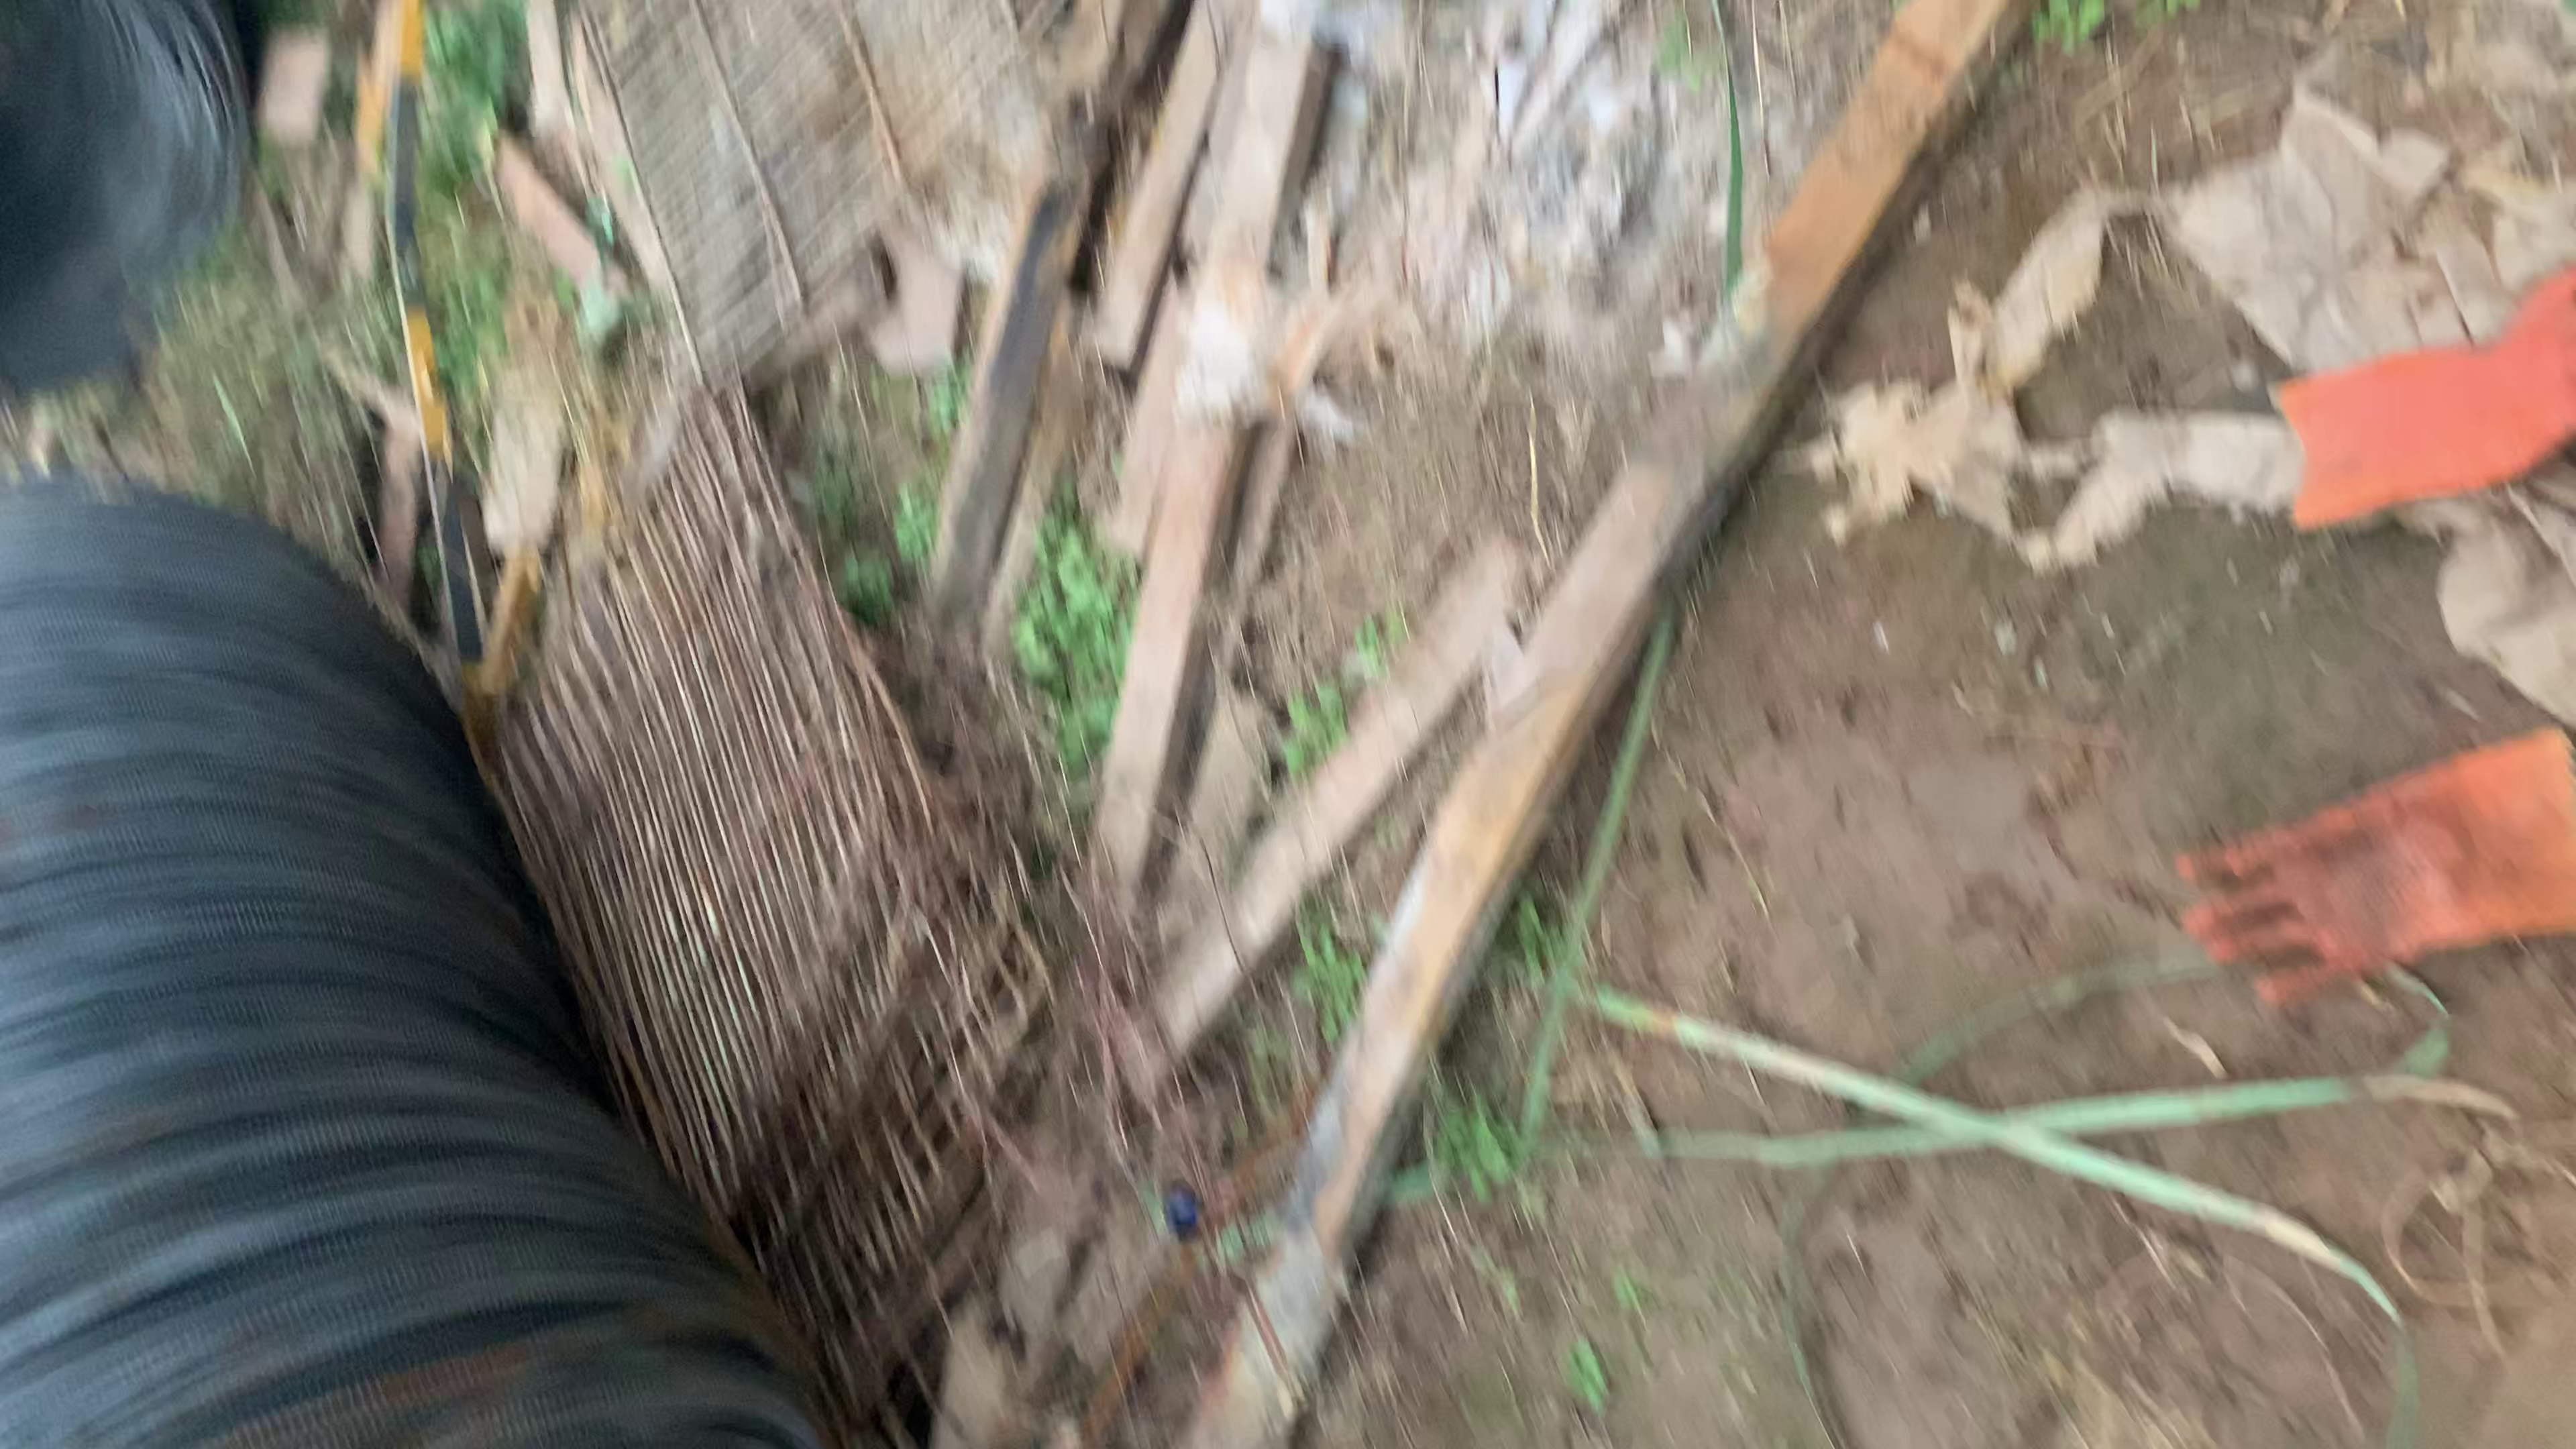coil: (92, 1297, 879, 1449), (23, 0, 264, 412)
